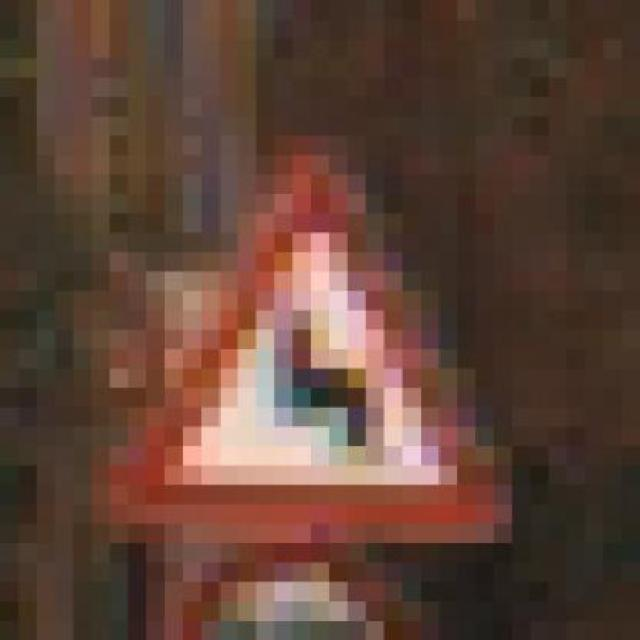Left Zig Zag Traffic: (116, 169, 519, 556)
